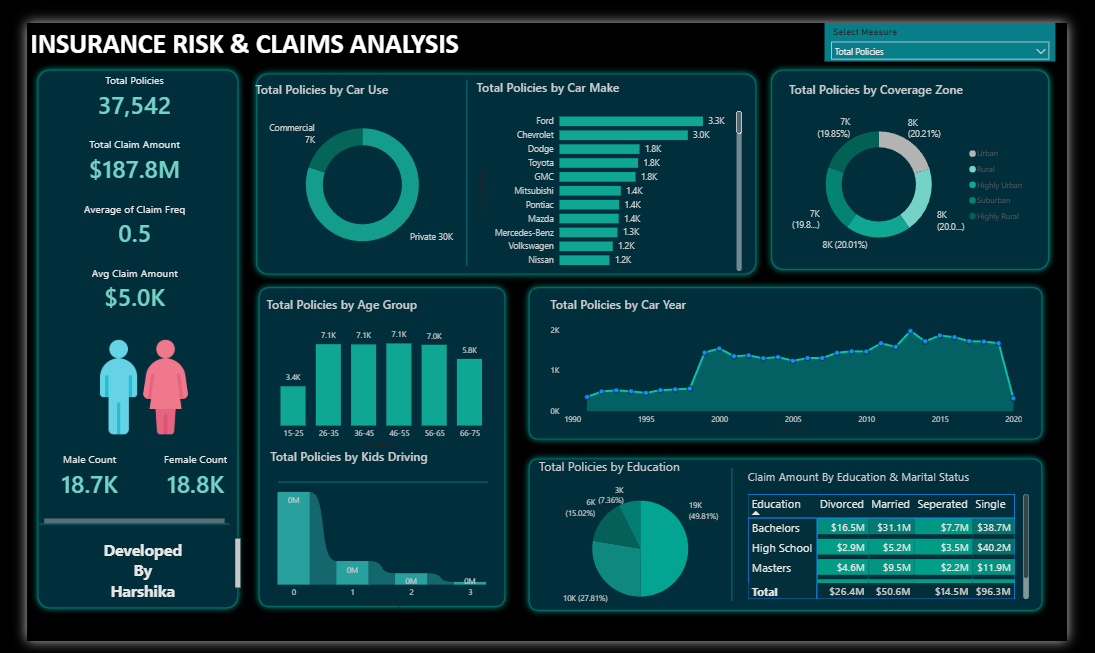

This screenshot's page, from the dashboard's own definition file:
{"tool":"powerbi","page":{"name":"Page 1","canvas":[1600,950],"ordinal":0},"visuals":[{"type":"textbox","box":[0,0,678,66],"z":0},{"type":"shape","box":[5.4,60.7,329.5,849.2],"z":1000},{"type":"cardVisual","fields":{"Data":["insurance_data_car.Total Policies","insurance_data_car.Total Claim Amount","Avg(insurance_data_car.Claim Freq)","insurance_data_car.Avg Claim Amount"]},"box":[30.6,58.3,270.5,424.6],"z":2000},{"type":"cardVisual","fields":{"Data":["insurance_data_car.Male Count","insurance_data_car.Female Count"]},"box":[10,614,324,164],"z":3000},{"type":"image","box":[330,719,355,189],"z":4000},{"type":"image","box":[622.9,685.2,110,110],"z":5000},{"type":"image","box":[462.7,725.3,110,110],"z":6000},{"type":"slicer","fields":{"Values":["Select Measure.Select Measure"]},"box":[1226.8,0,355.4,58.9],"z":7000},{"type":"shape","box":[342.6,66.7,790,330],"z":8000},{"type":"donutChart","fields":{"Category":["insurance_data_car.Car Use"],"Y":["insurance_data_car.Total Policies"]},"box":[346,88,340,285],"z":9000},{"type":"clusteredBarChart","fields":{"Category":["insurance_data_car.Car Make"],"Y":["insurance_data_car.Total Policies"]},"box":[685.7,87.5,418.2,300.3],"z":10000},{"type":"shape","box":[1133.9,60.7,448.2,328.6],"z":11000},{"type":"donutChart","fields":{"Category":["insurance_data_car.Coverage Zone"],"Y":["insurance_data_car.Total Policies"]},"box":[1167.9,89.3,378.6,283.9],"z":12000},{"type":"shape","box":[346.4,396.4,400,512.5],"z":13000},{"type":"clusteredColumnChart","fields":{"Category":["insurance_data_car.Age Group"],"Y":["insurance_data_car.Total Policies"]},"box":[364.3,419.6,365,240],"z":14000},{"type":"ribbonChart","fields":{"Category":["insurance_data_car.Kids Driving"],"Y":["insurance_data_car.Total Policies"]},"box":[369.6,653.6,353.6,250],"z":15000},{"type":"shape","box":[762.5,396.4,811,255],"z":16000},{"type":"areaChart","fields":{"Category":["insurance_data_car.Car Year"],"Y":["insurance_data_car.Total Policies"]},"box":[800,419.6,735.7,217.9],"z":17000},{"type":"shape","box":[762.5,658.9,811,255],"z":18000},{"type":"pieChart","fields":{"Category":["insurance_data_car.Education"],"Y":["insurance_data_car.Total Policies"]},"box":[782.7,669.1,322,243],"z":19000},{"type":"pivotTable","title":"Claim Amount By Education & Marital Status ","fields":{"Columns":["insurance_data_car.Marital Status"],"Rows":["insurance_data_car.Education"],"Values":["insurance_data_car.Total Claim Amount"]},"box":[1104.7,686.1,442.5,205.3],"z":20000},{"type":"shape","box":[516.1,89,322.6,284.8],"z":21000},{"type":"shape","box":[923.3,685.2,322.6,204.7],"z":22000},{"type":"shape","box":[387.1,602.9,322.6,204.7],"z":23000},{"type":"shape","box":[20,734,292,72],"z":24000},{"type":"textbox","box":[31.1,787.6,302.6,102.3],"z":25000},{"type":"image","box":[0,476,360,166],"z":25001}]}

Visuals, with their boxes in screenshot pixels (x1, y1, x2, y2), scaled from the page's 1600x950 canvas onto the 1095x653 screenshot:
textbox: BBox(0, 0, 464, 45)
shape: BBox(4, 42, 229, 625)
cardVisual - insurance_data_car.Total Policies x insurance_data_car.Total Claim Amount: BBox(21, 40, 206, 332)
cardVisual - insurance_data_car.Male Count x insurance_data_car.Female Count: BBox(7, 422, 229, 535)
image: BBox(226, 494, 469, 624)
image: BBox(426, 471, 502, 547)
image: BBox(317, 499, 392, 574)
slicer - Select Measure.Select Measure: BBox(840, 0, 1083, 40)
shape: BBox(234, 46, 775, 273)
donutChart - insurance_data_car.Car Use x insurance_data_car.Total Policies: BBox(237, 60, 469, 256)
clusteredBarChart - insurance_data_car.Car Make x insurance_data_car.Total Policies: BBox(469, 60, 755, 267)
shape: BBox(776, 42, 1083, 268)
donutChart - insurance_data_car.Coverage Zone x insurance_data_car.Total Policies: BBox(799, 61, 1058, 257)
shape: BBox(237, 272, 511, 625)
clusteredColumnChart - insurance_data_car.Age Group x insurance_data_car.Total Policies: BBox(249, 288, 499, 453)
ribbonChart - insurance_data_car.Kids Driving x insurance_data_car.Total Policies: BBox(253, 449, 495, 621)
shape: BBox(522, 272, 1077, 448)
areaChart - insurance_data_car.Car Year x insurance_data_car.Total Policies: BBox(548, 288, 1051, 438)
shape: BBox(522, 453, 1077, 628)
pieChart - insurance_data_car.Education x insurance_data_car.Total Policies: BBox(536, 460, 756, 627)
"Claim Amount By Education & Marital Status " pivotTable: BBox(756, 472, 1059, 613)
shape: BBox(353, 61, 574, 257)
shape: BBox(632, 471, 853, 612)
shape: BBox(265, 414, 486, 555)
shape: BBox(14, 505, 214, 554)
textbox: BBox(21, 541, 228, 612)
image: BBox(0, 327, 246, 441)
